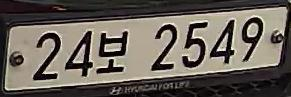2: (29, 29, 63, 84), (146, 20, 179, 73)
4: (65, 27, 95, 78), (209, 15, 239, 65)
5: (178, 19, 209, 69)
9: (239, 12, 267, 64)
보: (94, 28, 131, 77)
